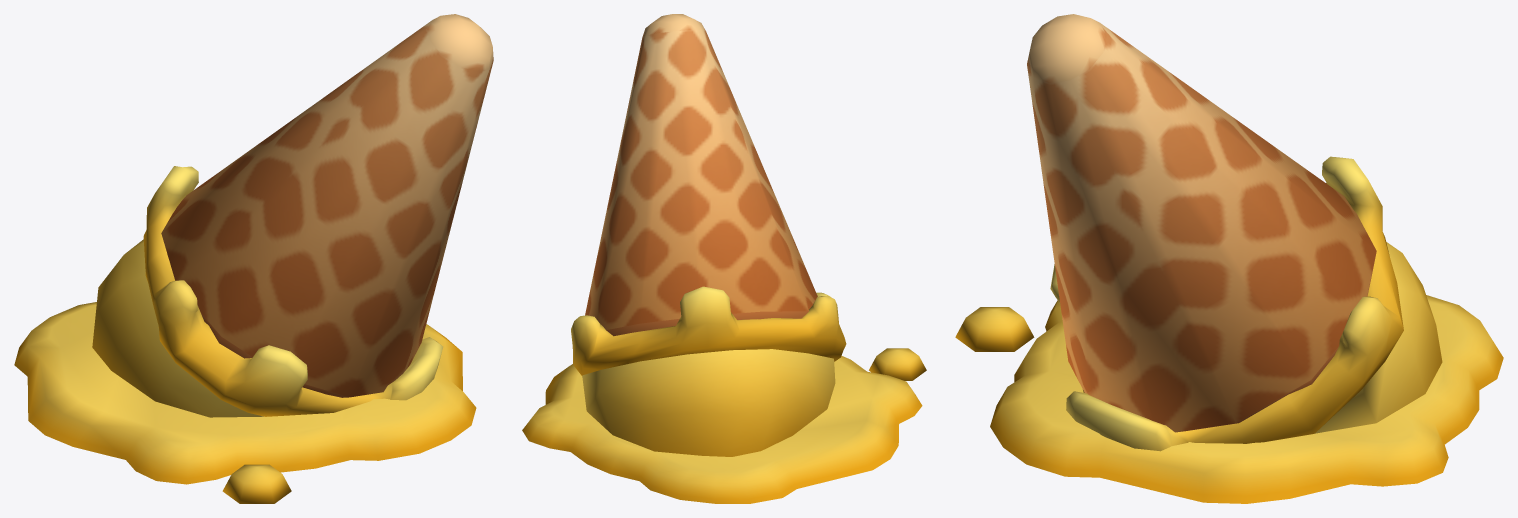
File: m_SpilledIceCream08.fbx
3 views of the same model, side by side, from view 1: azimuth 30°, elevation 25°; view 2: azimuth 150°, elevation 25°; view 3: azimuth 270°, elevation 25° (orthographic). The views are drawn at different scales.
Parts seen in each view (by area): view 1: m_SpilledIceCream08; view 2: m_SpilledIceCream08; view 3: m_SpilledIceCream08.
Part boxes in pixels (x1,y1,x2,y2): m_SpilledIceCream08: (14,14,493,503); m_SpilledIceCream08: (522,14,926,503); m_SpilledIceCream08: (955,14,1503,503).
Size of the model in its own units: 12.21 by 11.36 by 12.68.
